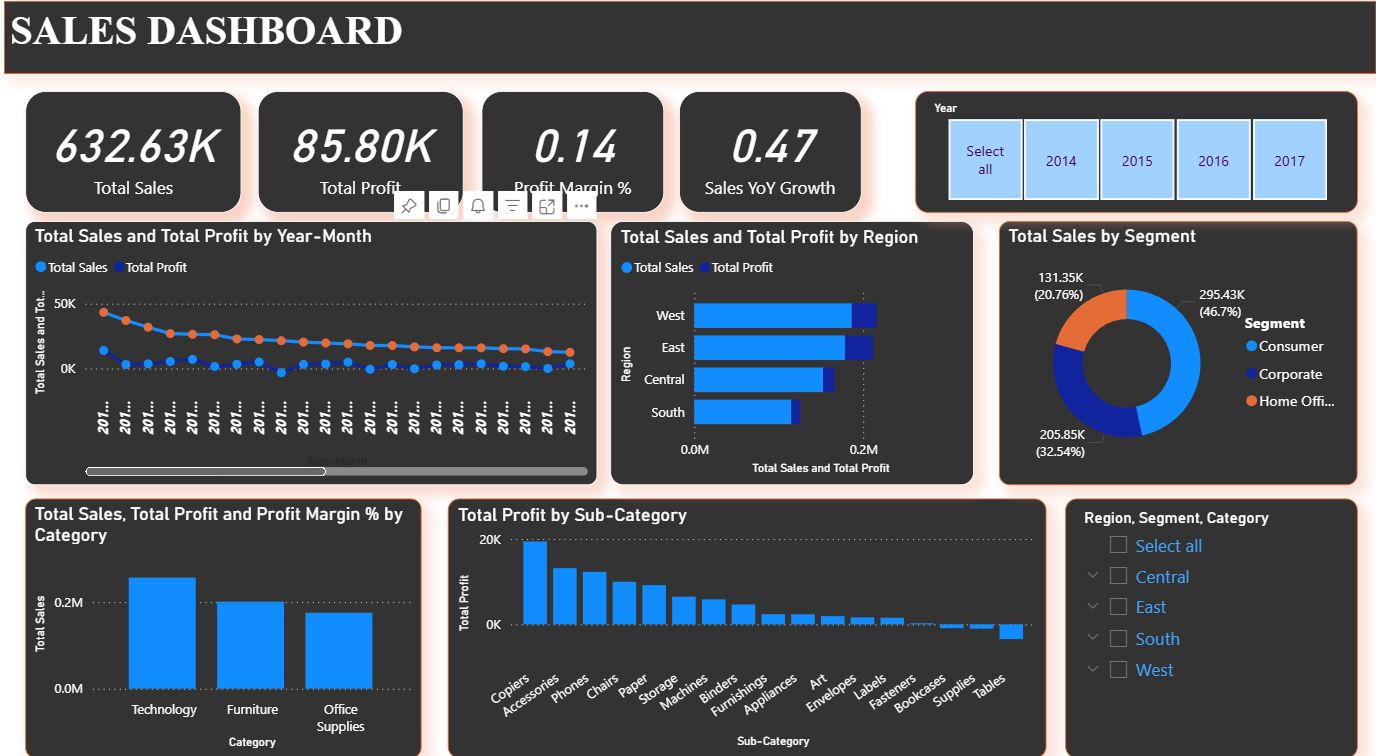

The dashboard page shown, as its layout file describes it:
{"tool":"powerbi","page":{"name":"Dashboard","canvas":[1280,720],"ordinal":0},"visuals":[{"type":"card","fields":{"Values":["DateTable.Total Sales"]},"box":[20.2,83.7,202,114],"z":0},{"type":"card","fields":{"Values":["DateTable.Total Profit"]},"box":[236.6,83.7,191.9,114],"z":1},{"type":"card","fields":{"Values":["DateTable.Sales YoY Growth"]},"box":[629,83.7,170.2,114],"z":2},{"type":"card","fields":{"Values":["DateTable.Profit Margin %"]},"box":[445.8,83.7,170.2,114],"z":3},{"type":"lineChart","fields":{"Y":["DateTable.Total Sales","DateTable.Total Profit"],"Category":["DateTable.Year-Month"]},"box":[20.2,204.9,533.8,246.7],"z":4},{"type":"clusteredColumnChart","fields":{"Category":["Orders.Category"],"Y":["DateTable.Total Sales"]},"box":[20.2,464.6,369.3,242.4],"z":5},{"type":"clusteredColumnChart","fields":{"Category":["Orders.Sub-Category"],"Y":["DateTable.Total Profit"]},"box":[414.1,464.6,558.3,242.4],"z":6},{"type":"barChart","fields":{"Category":["Orders.Region"],"Y":["DateTable.Total Sales","DateTable.Total Profit"]},"box":[565.6,204.9,339,246.7],"z":7},{"type":"donutChart","fields":{"Category":["Orders.Segment"],"Y":["DateTable.Total Sales"]},"box":[927.7,204.9,334.7,246.7],"z":8},{"type":"slicer","fields":{"Values":["DateTable.Year"]},"box":[849.8,83.7,412.6,114],"z":10},{"type":"slicer","fields":{"Values":["Orders.Region","Orders.Segment","Orders.Category"]},"box":[989.7,464.6,272.7,242.4],"z":11},{"type":"textbox","box":[0,0,1279.7,67.8],"z":12}]}

Visuals, with their boxes in screenshot pixels (x1, y1, x2, y2), scaled from the page's 1280x720 canvas onto the 1376x756 screenshot:
card - DateTable.Total Sales: {"x1": 22, "y1": 88, "x2": 239, "y2": 208}
card - DateTable.Total Profit: {"x1": 254, "y1": 88, "x2": 461, "y2": 208}
card - DateTable.Sales YoY Growth: {"x1": 676, "y1": 88, "x2": 859, "y2": 208}
card - DateTable.Profit Margin %: {"x1": 479, "y1": 88, "x2": 662, "y2": 208}
lineChart - DateTable.Total Sales x DateTable.Total Profit: {"x1": 22, "y1": 215, "x2": 596, "y2": 474}
clusteredColumnChart - Orders.Category x DateTable.Total Sales: {"x1": 22, "y1": 488, "x2": 419, "y2": 742}
clusteredColumnChart - Orders.Sub-Category x DateTable.Total Profit: {"x1": 445, "y1": 488, "x2": 1045, "y2": 742}
barChart - Orders.Region x DateTable.Total Sales: {"x1": 608, "y1": 215, "x2": 972, "y2": 474}
donutChart - Orders.Segment x DateTable.Total Sales: {"x1": 997, "y1": 215, "x2": 1357, "y2": 474}
slicer - DateTable.Year: {"x1": 914, "y1": 88, "x2": 1357, "y2": 208}
slicer - Orders.Region x Orders.Segment: {"x1": 1064, "y1": 488, "x2": 1357, "y2": 742}
textbox: {"x1": 0, "y1": 0, "x2": 1375, "y2": 71}
